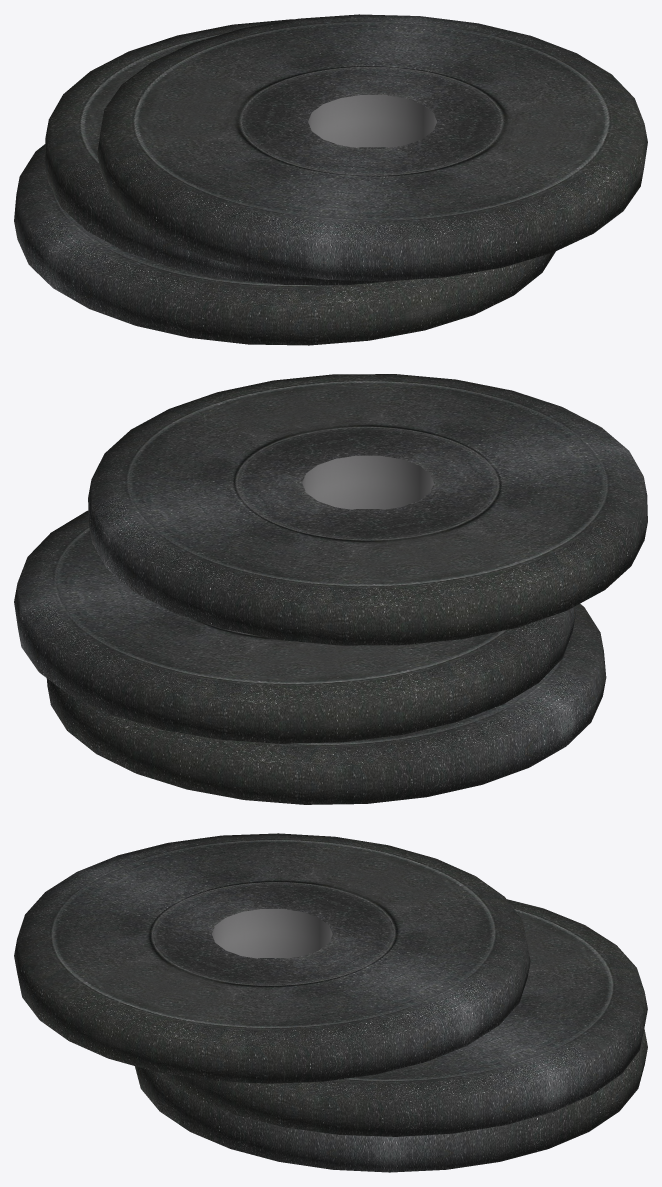
File: Dumbbells02.FBX
3 views of the same model, one above another, from view 1: azimuth 30°, elevation 25°; view 2: azimuth 150°, elevation 25°; view 3: azimuth 270°, elevation 25° (orthographic). The views are drawn at different scales.
Parts seen in each view (by area): view 1: Barbells02; view 2: Barbells02; view 3: Barbells02.
Part boxes in pixels (<box>): Barbells02: <box>14,14,647,345</box>; Barbells02: <box>14,374,647,804</box>; Barbells02: <box>14,833,647,1172</box>.
Size of the model in its own units: 456 by 135 by 526.
